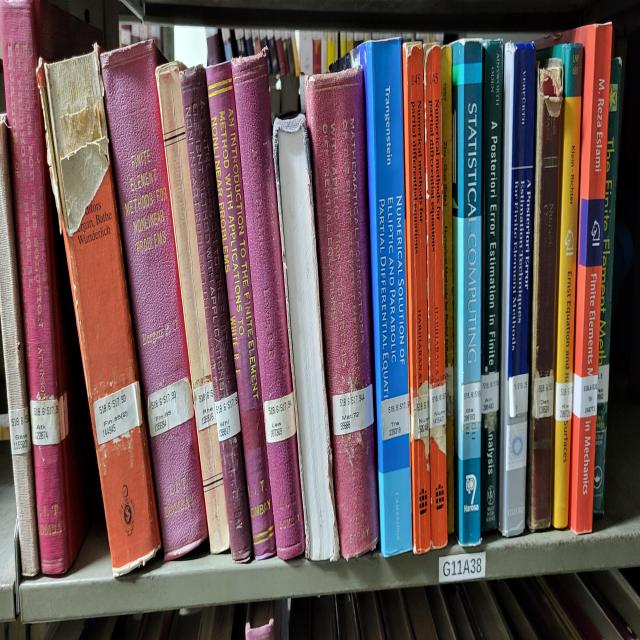Book: (36, 46, 160, 576), (100, 41, 208, 560), (231, 51, 305, 560), (305, 68, 379, 560), (156, 62, 230, 552), (180, 65, 252, 563), (206, 62, 276, 560), (554, 22, 612, 533), (355, 41, 412, 557), (544, 43, 584, 528), (526, 62, 564, 530), (499, 43, 535, 536), (451, 41, 482, 547), (402, 43, 431, 552), (424, 43, 448, 549), (481, 41, 504, 530)
Label: (94, 381, 142, 444), (148, 376, 194, 436), (332, 384, 374, 436), (264, 392, 296, 444), (30, 398, 61, 446), (381, 392, 410, 441), (215, 392, 241, 441), (572, 373, 598, 417), (194, 381, 216, 430), (534, 373, 554, 419), (461, 381, 481, 425), (509, 373, 529, 417), (412, 392, 429, 438), (481, 371, 499, 414), (429, 384, 446, 427), (555, 381, 572, 422), (598, 365, 609, 403)
